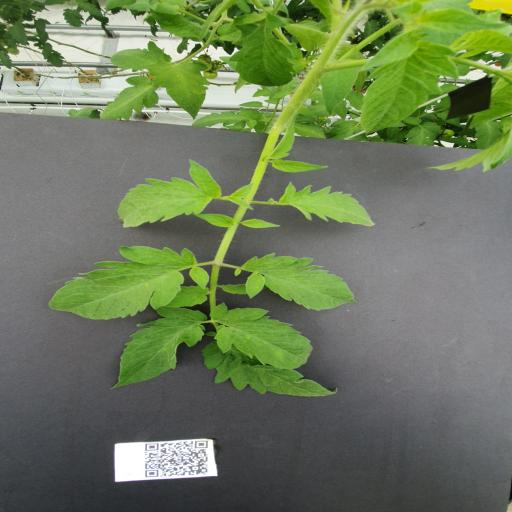Healthy: (48, 245, 209, 320), (362, 41, 457, 135), (201, 340, 339, 401), (110, 306, 208, 390), (116, 159, 222, 228), (209, 301, 313, 370), (241, 252, 361, 311), (228, 12, 295, 87), (278, 180, 376, 228), (147, 60, 210, 120), (356, 30, 424, 70), (100, 76, 160, 121), (320, 67, 362, 117), (109, 40, 172, 72), (192, 107, 262, 130), (148, 8, 200, 38), (270, 158, 330, 174), (167, 286, 210, 308), (192, 211, 234, 227), (241, 216, 281, 228), (239, 101, 263, 108)
